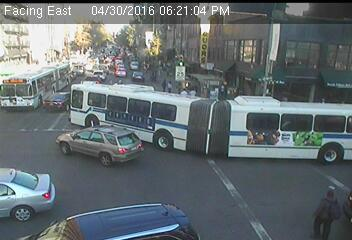neg: (259, 73, 272, 91), (153, 123, 163, 137), (79, 130, 88, 142), (89, 207, 98, 219), (44, 76, 53, 88), (15, 112, 24, 124), (91, 65, 100, 76), (72, 91, 80, 102), (226, 95, 233, 105), (172, 56, 179, 66), (18, 176, 25, 185), (22, 83, 29, 92), (118, 63, 123, 70)
pos: (305, 183, 345, 236), (165, 80, 176, 93), (178, 86, 188, 100), (189, 86, 197, 97), (160, 78, 167, 88)
